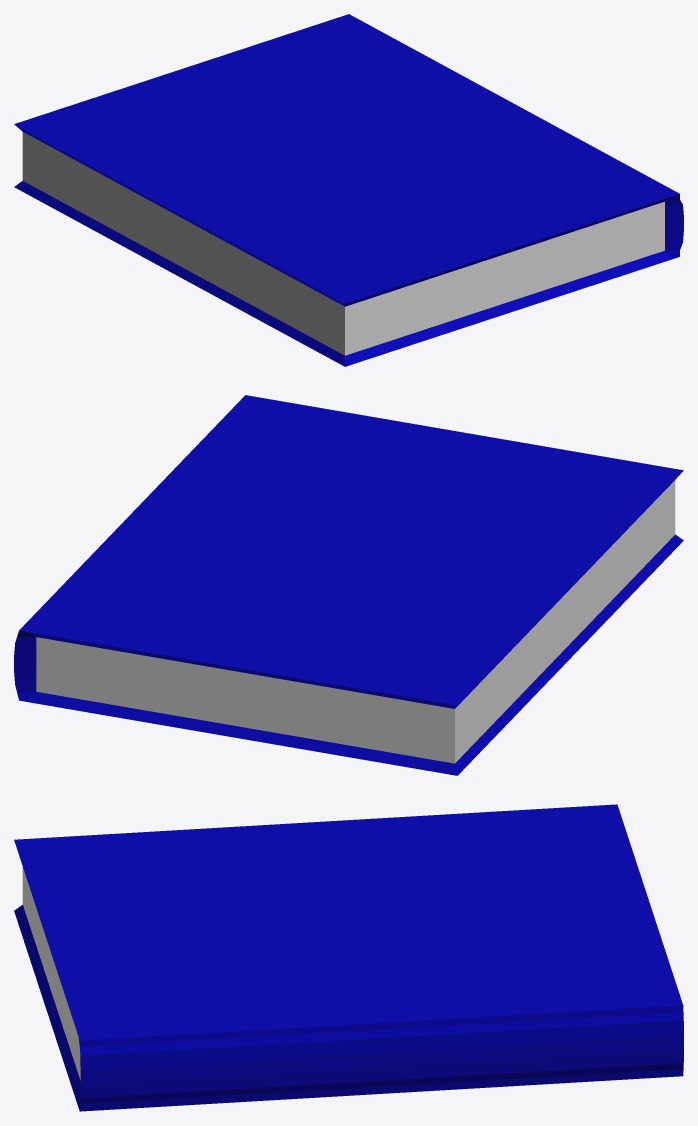
File: azul.fbx
3 views of the same model, one above another, from view 1: azimuth 30°, elevation 25°; view 2: azimuth 150°, elevation 25°; view 3: azimuth 270°, elevation 25° (orthographic). The views are drawn at different scales.
Parts seen in each view (by area): view 1: Cubo.018; view 2: Cubo.018; view 3: Cubo.018.
Boxes of the visible parts, box(x1,y1,x2,y2) form: Cubo.018: box(14, 14, 683, 366); Cubo.018: box(14, 395, 683, 775); Cubo.018: box(14, 804, 683, 1111).
Bounding box in the file's own units: 97.05 × 13.49 × 115.
